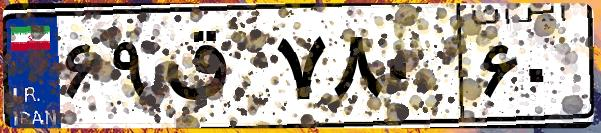0: (385, 28, 445, 110), (525, 38, 570, 115)
6: (57, 26, 110, 100), (475, 38, 525, 113)
7: (270, 28, 330, 110)
8: (330, 28, 385, 110)
9: (110, 28, 158, 98)
ق: (158, 20, 270, 120)
